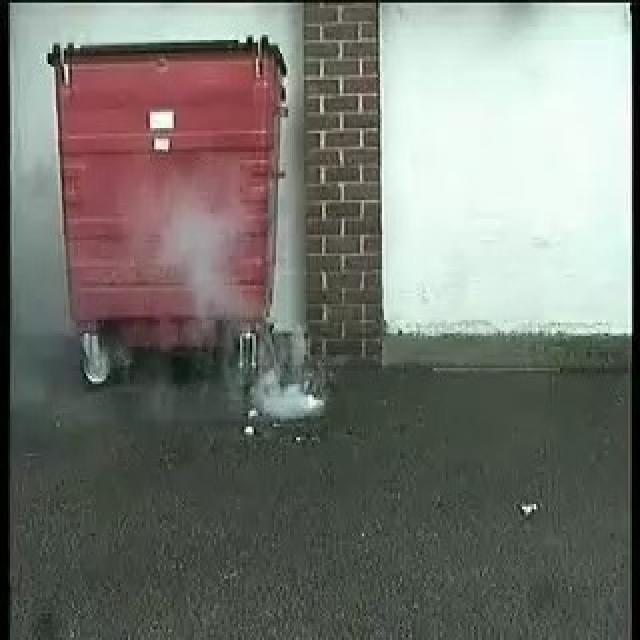smoke: (181, 196, 320, 421)
